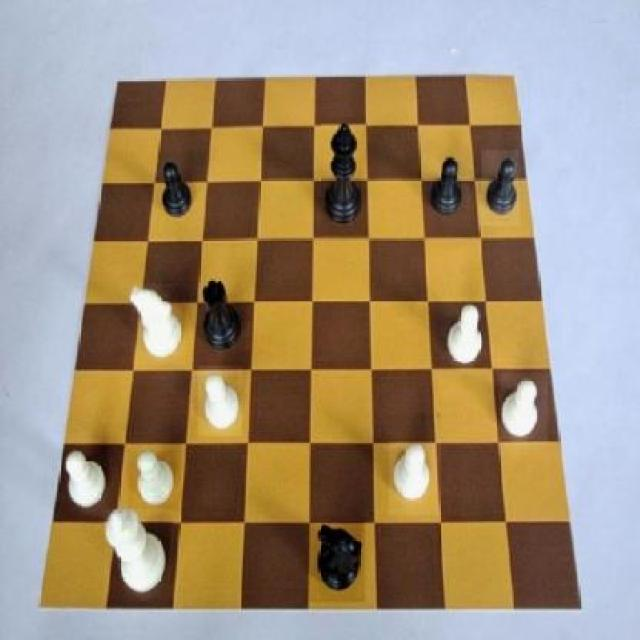black-bishop: (320, 119, 367, 238)
black-king: (310, 521, 366, 604)
black-knight: (423, 152, 471, 228), (155, 160, 200, 228), (482, 150, 519, 226)
black-queen: (196, 276, 246, 356)
white-bishop: (104, 511, 174, 601)
white-king: (131, 283, 186, 365)
white-knight: (389, 440, 440, 515), (500, 372, 549, 445), (128, 443, 180, 511), (58, 444, 108, 514), (442, 297, 489, 369), (198, 366, 242, 436)
